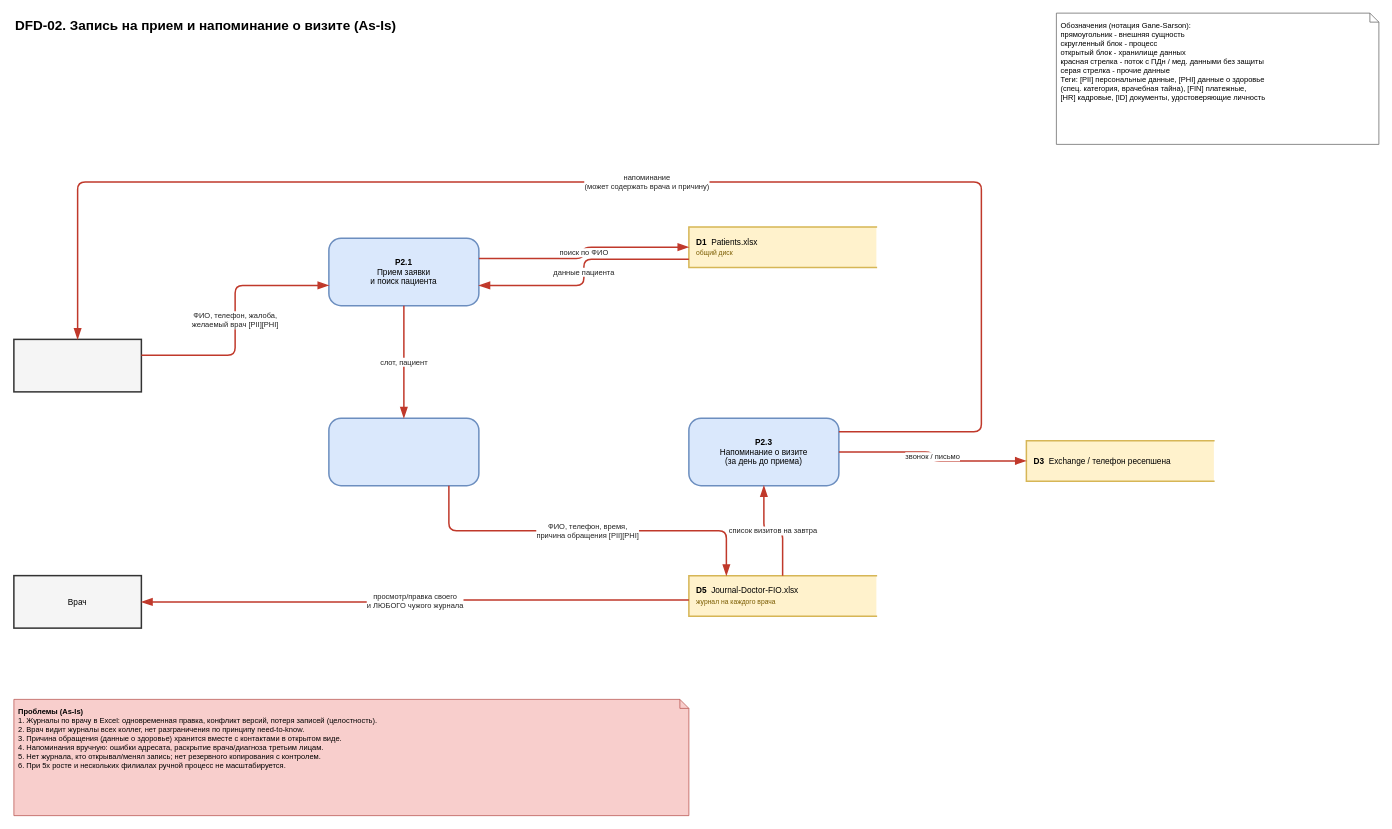
Image size: 1392x829. Some labels were removed from this diagram. Here are the shapes that lost their labels. From the top down, the centre of each, then its label:
At (77,365): "Пациент (звонок / визит)".
At (403,451): "P2.2 Запись в журнал врача".
